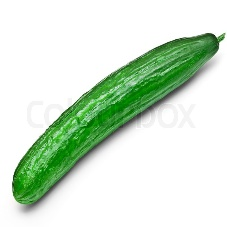cucumber: (11, 31, 217, 208)
